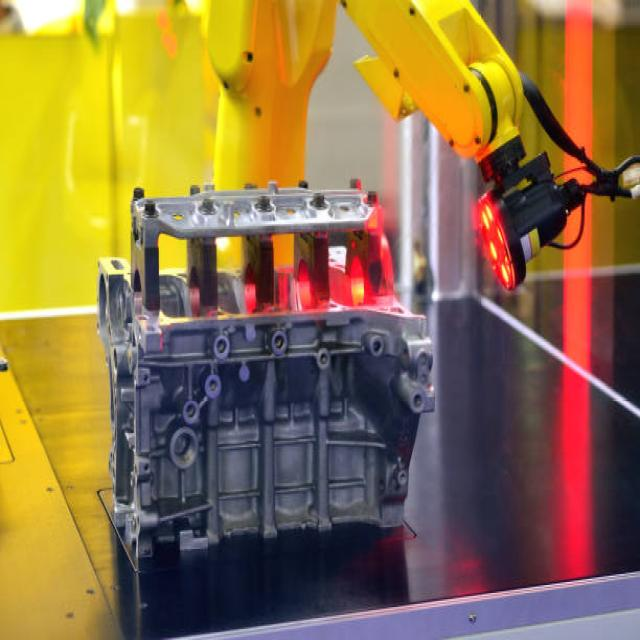Robotic-arm: (0, 0, 639, 270)
